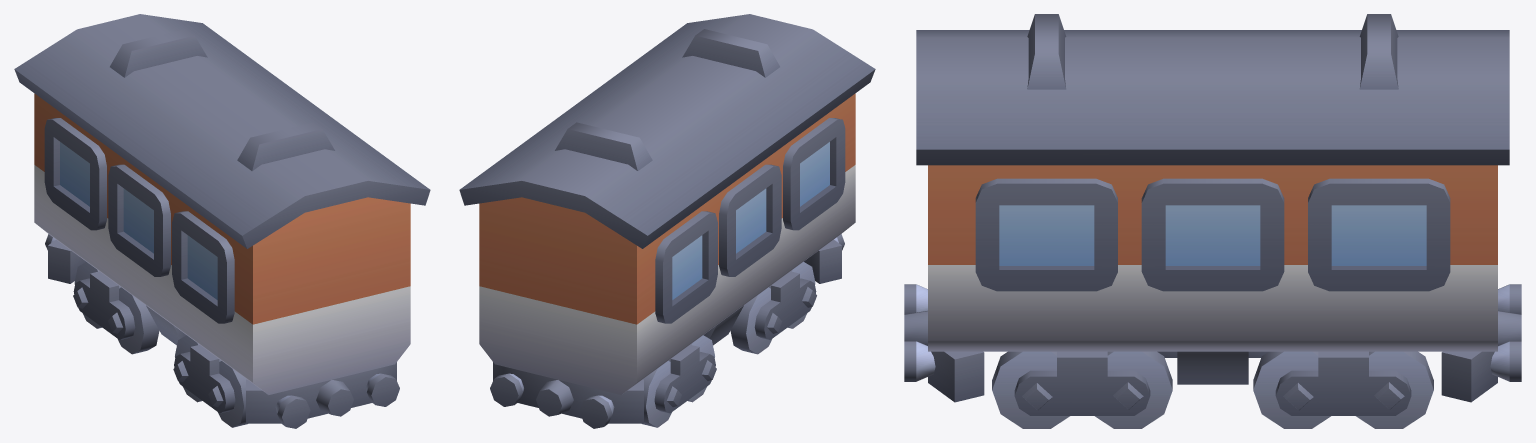
File: kenney-train-train-locomotive-passenger-a.glb
3 renders of one model, left to right at view 1: azimuth 30°, elevation 25°; view 2: azimuth 150°, elevation 25°; view 3: azimuth 270°, elevation 25°, orthographic. The views are drawn at different scales.
Visible parts, largest first — view 1: train-locomotive-passenger-a; view 2: train-locomotive-passenger-a; view 3: train-locomotive-passenger-a.
Part boxes in pixels (x1,y1,x2,y2): train-locomotive-passenger-a: (14,14,430,428); train-locomotive-passenger-a: (459,14,875,428); train-locomotive-passenger-a: (904,14,1521,428).
Size of the model in its own units: 1.19 by 1.65 by 2.6.
Materials: 1 (1 with a texture image).
